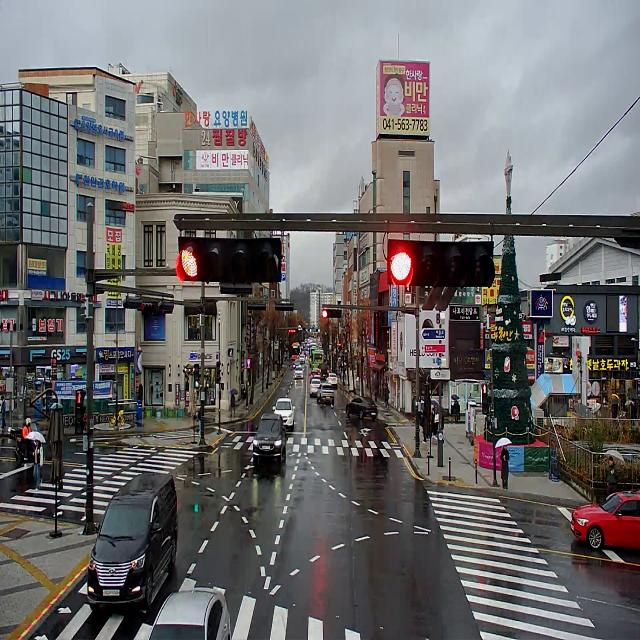Bus: (312, 350, 323, 369), (291, 342, 300, 360), (310, 346, 318, 365)
Car: (87, 471, 178, 604), (148, 587, 231, 640), (569, 491, 640, 548), (253, 414, 286, 463), (346, 397, 378, 420), (272, 398, 296, 426), (317, 381, 334, 404), (318, 364, 330, 380), (309, 379, 321, 394), (326, 373, 338, 385), (309, 370, 320, 383), (294, 366, 304, 378), (314, 374, 326, 383), (293, 359, 301, 370), (300, 355, 305, 363)
